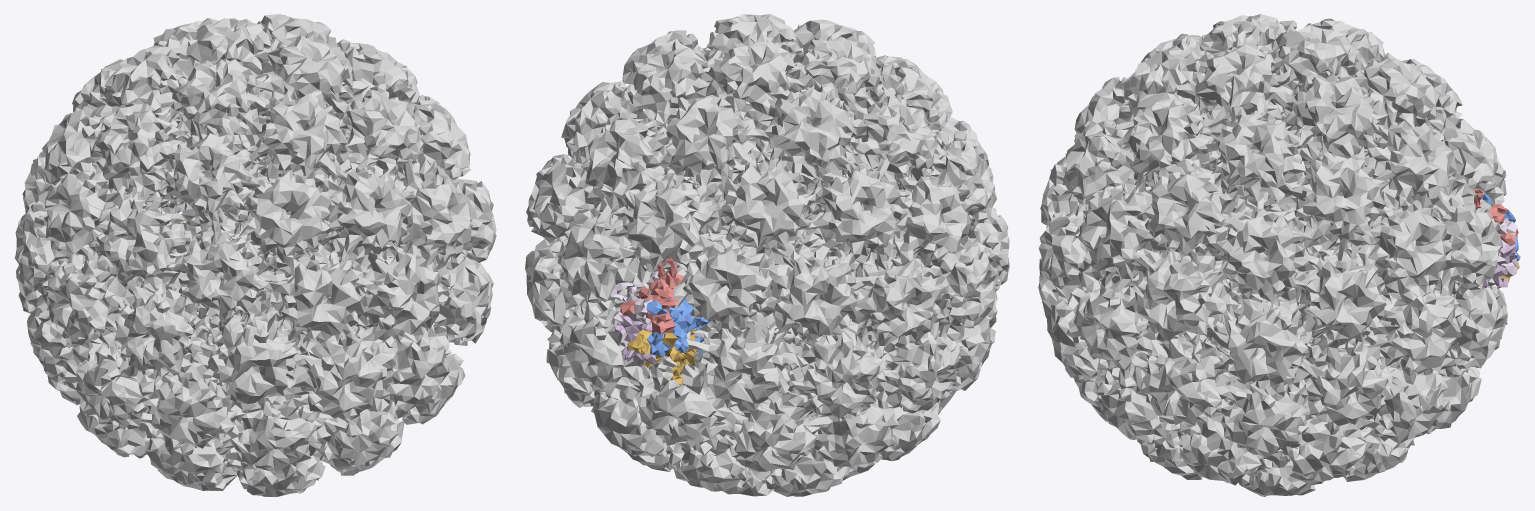
The model's file is 3DPX-016170.glb.
The picture shows the model from 3 angles, left to right: view 1: azimuth 30°, elevation 25°; view 2: azimuth 150°, elevation 25°; view 3: azimuth 270°, elevation 25°; orthographic projection.
Parts seen in each view (by area): view 1: Pap_Capsid; view 2: Pap_Capsid, L1_3, L1_2, L1_1, L1_5, L1_4; view 3: Pap_Capsid, L1_4, L1_3, L1_5.
Part boxes in pixels (left/top/right/bottom): Pap_Capsid: left=14, top=14, right=496, bottom=496; Pap_Capsid: left=525, top=14, right=1009, bottom=496; L1_3: left=620, top=258, right=683, bottom=334; L1_2: left=646, top=297, right=711, bottom=356; L1_1: left=627, top=325, right=700, bottom=385; L1_5: left=610, top=272, right=658, bottom=347; L1_4: left=614, top=315, right=656, bottom=367; Pap_Capsid: left=1038, top=14, right=1507, bottom=496; L1_4: left=1483, top=244, right=1519, bottom=289; L1_3: left=1474, top=188, right=1518, bottom=246; L1_5: left=1495, top=218, right=1517, bottom=276.
Bounding box in the file's own units: 1.98 × 2 × 1.98.
